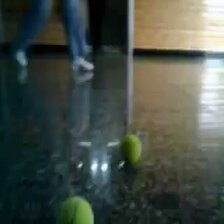tennis: (50, 197, 95, 224), (118, 133, 142, 167)
